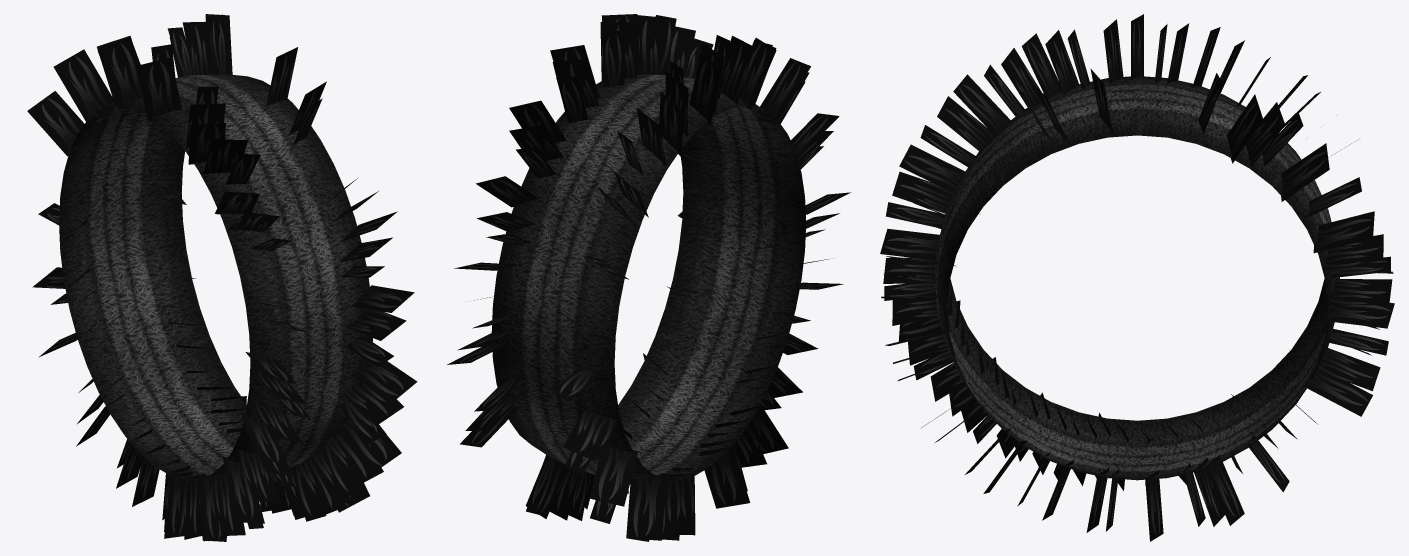
The model's file is head2.fbx.
The picture shows the model from 3 angles, left to right: view 1: azimuth 30°, elevation 25°; view 2: azimuth 150°, elevation 25°; view 3: azimuth 270°, elevation 25°; orthographic projection.
Visible parts, largest first — view 1: head_ground1; view 2: head_ground1; view 3: head_ground1.
Boxes of the visible parts, bbox=[...] form: head_ground1: bbox=[27, 14, 417, 541]; head_ground1: bbox=[447, 14, 850, 541]; head_ground1: bbox=[880, 14, 1394, 541].
Size of the model in its own units: 168 by 491 by 493.
Materials: 2 (2 with a texture image).
